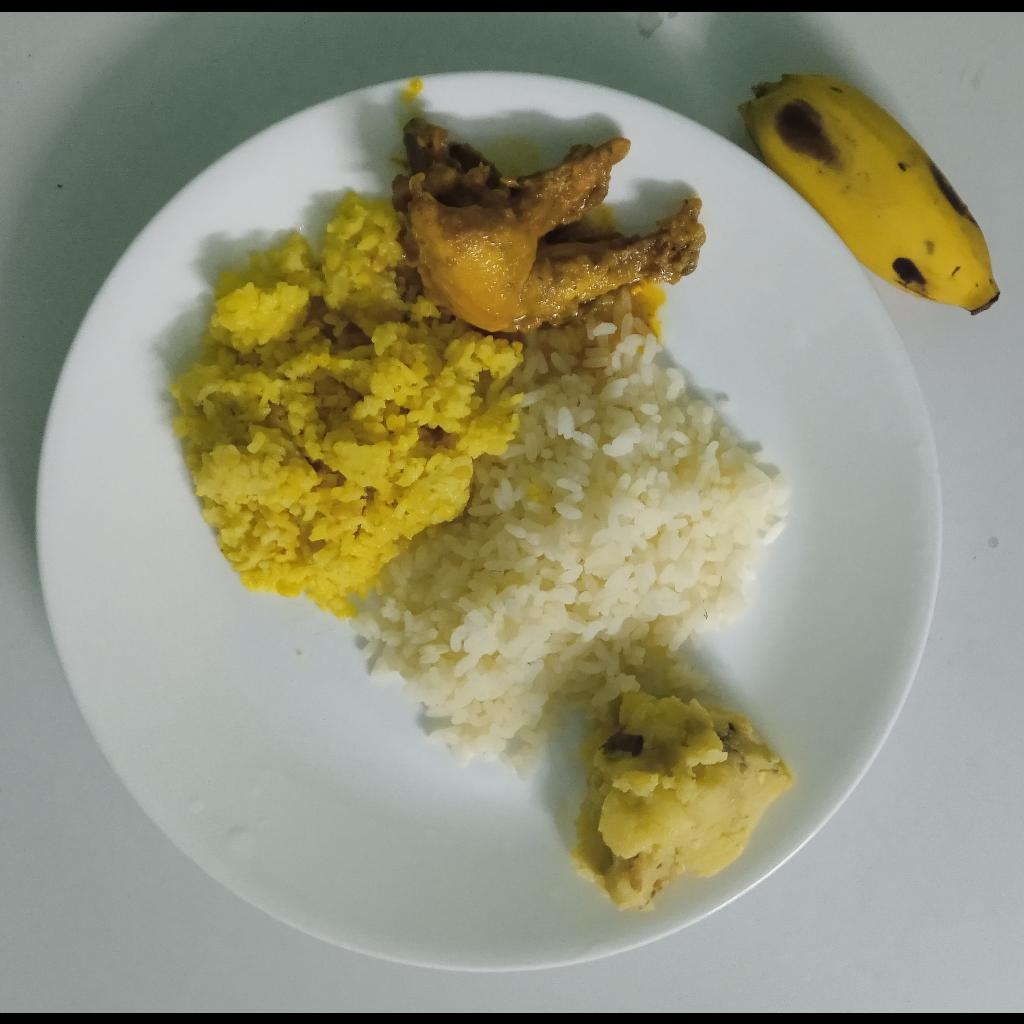banana: (737, 73, 1002, 315)
chicken: (393, 118, 706, 331)
khichuri: (170, 185, 526, 622)
potato-mashed: (573, 688, 796, 909)
rice: (349, 294, 788, 784)
